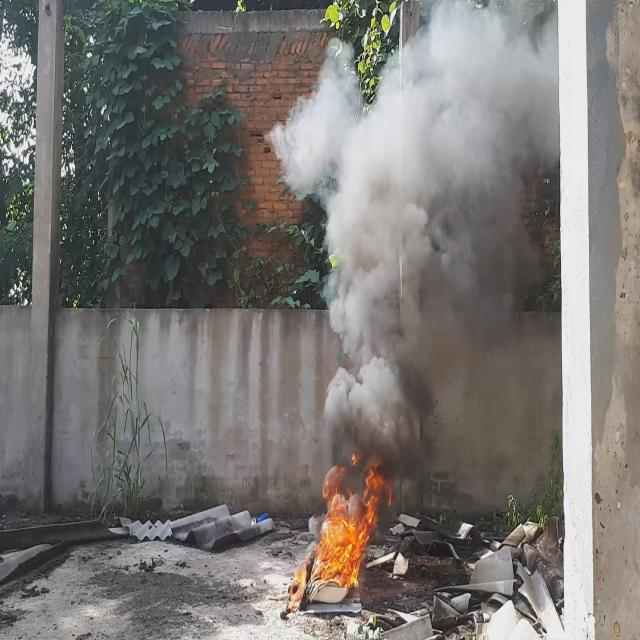Fire: (314, 446, 396, 589)
Smoke: (264, 0, 555, 467)
